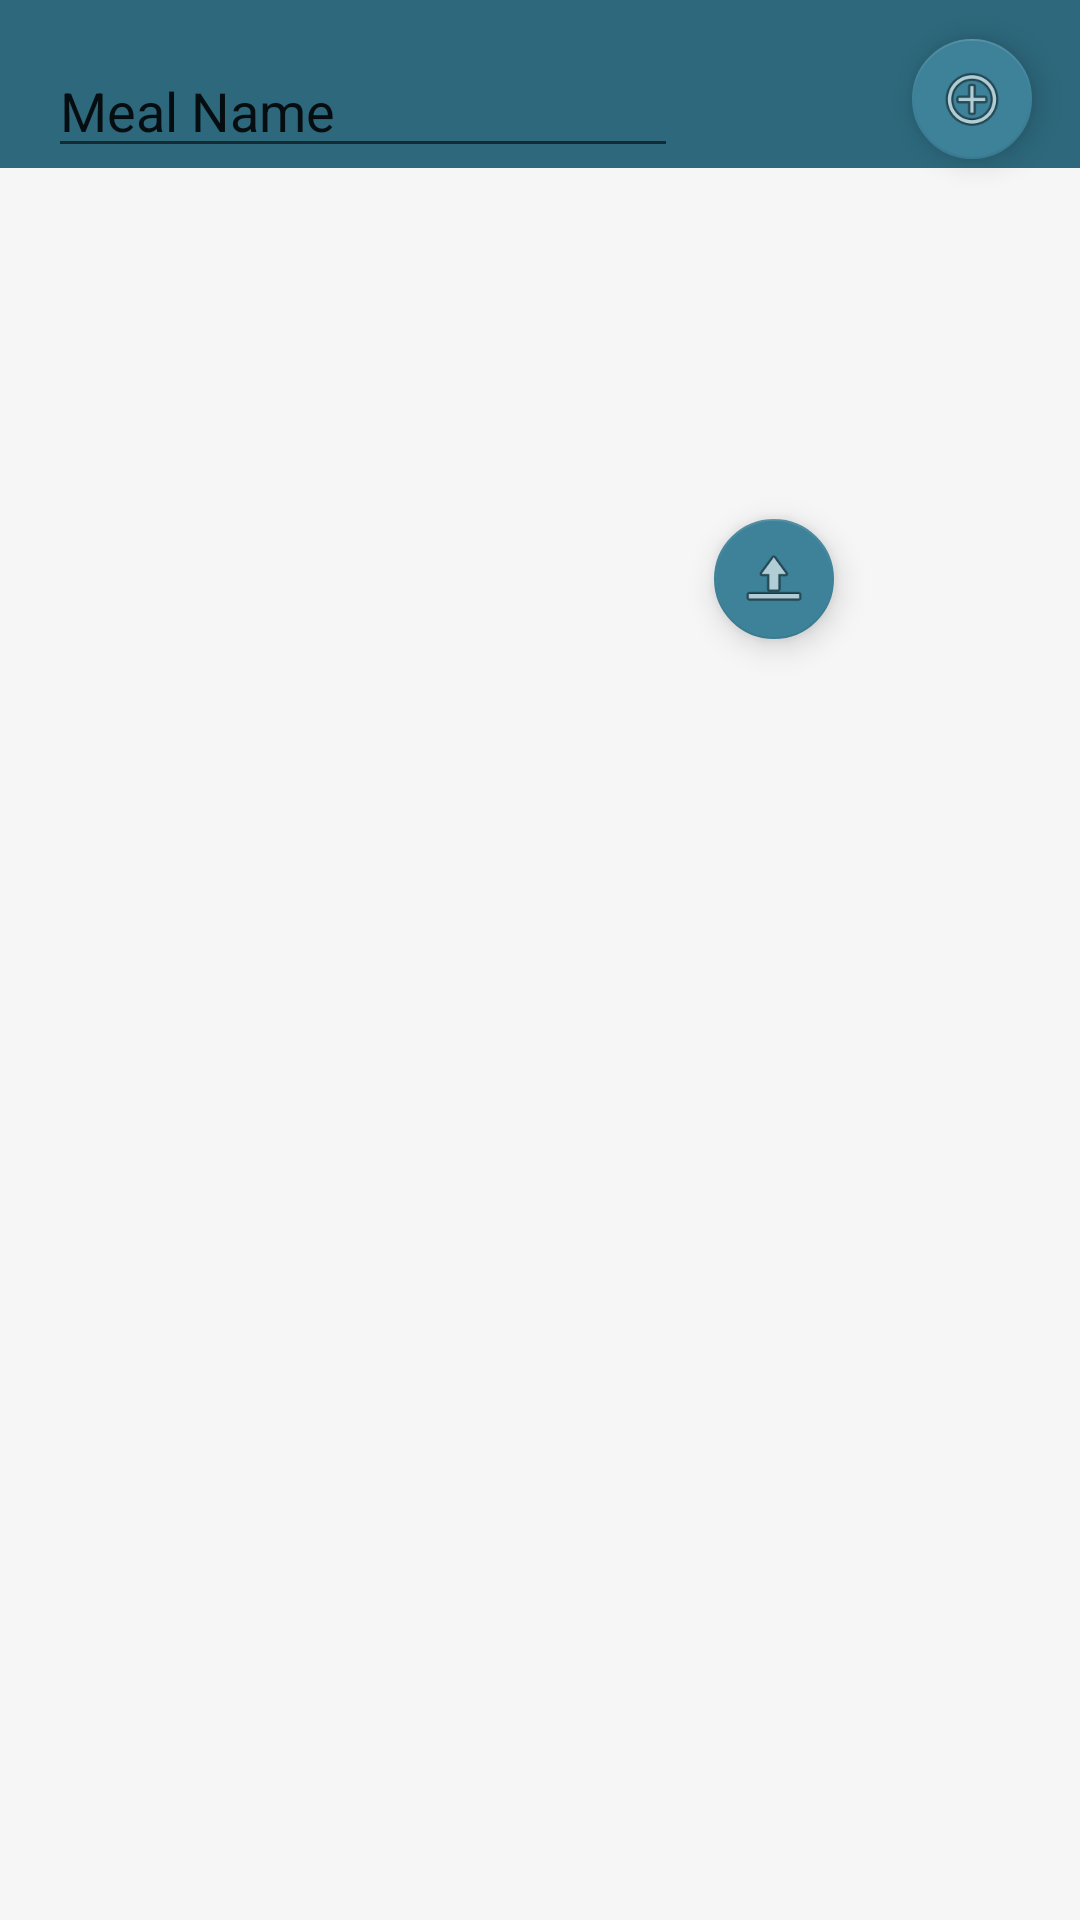

Icon click points for this 1080px x 1920px phone screenshot, format [x,y]:
add: [972,99]
upload: [774,579]
